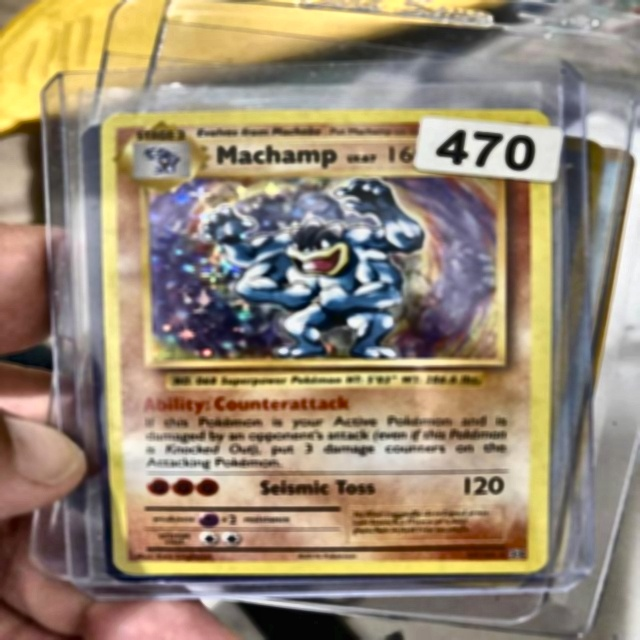card: (97, 108, 553, 575)
